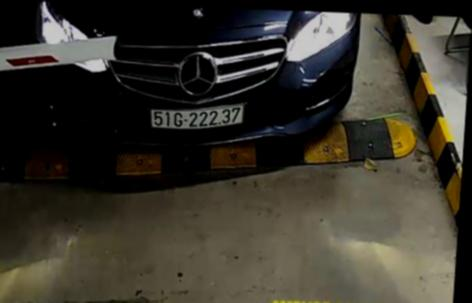License_Plate: (145, 96, 246, 131)
